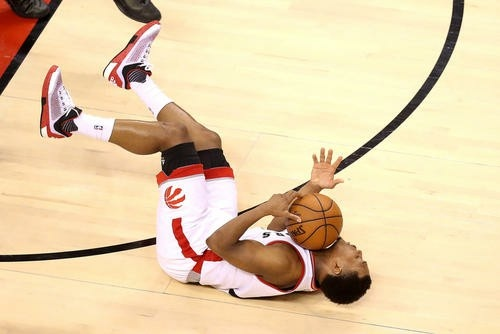falling: (38, 25, 372, 301)
